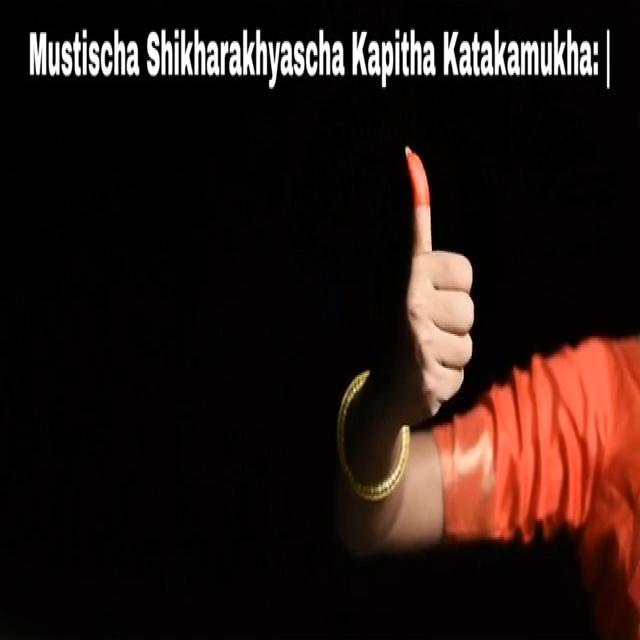Shikhara: (373, 123, 488, 429)
bangle: (330, 403, 414, 518)
text: (10, 4, 624, 104)
